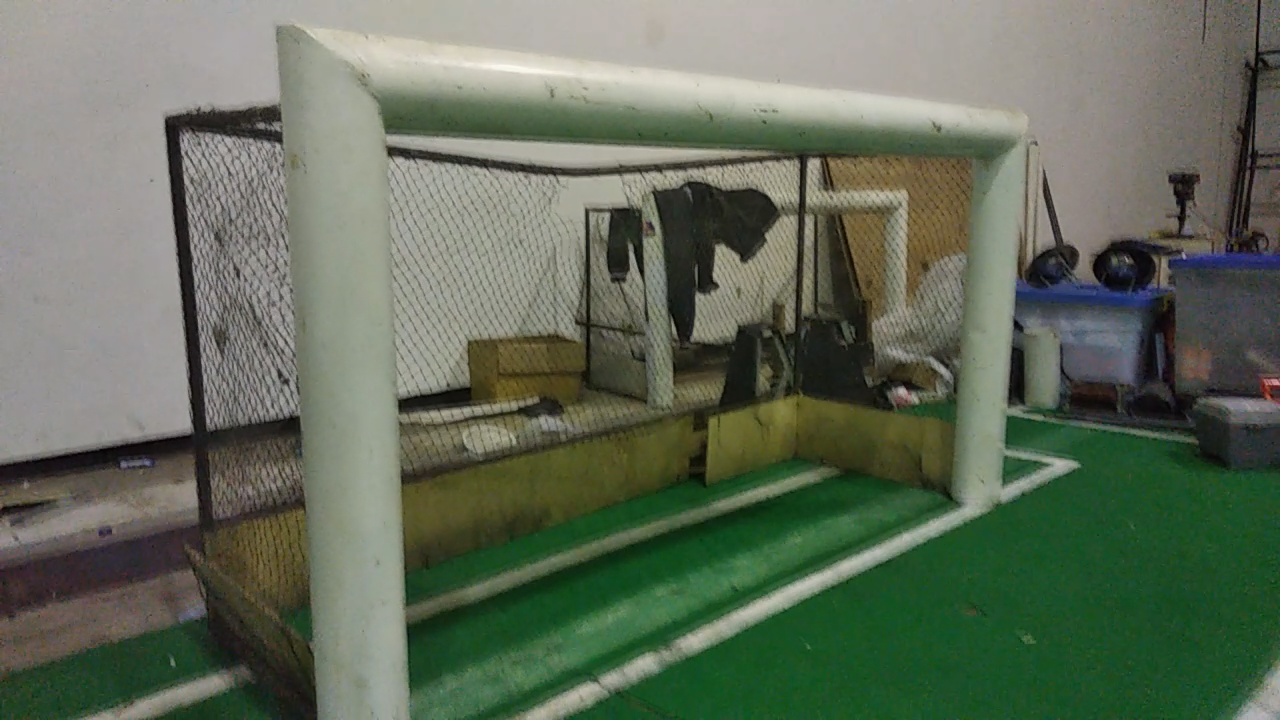gawang: (264, 14, 1047, 713)
